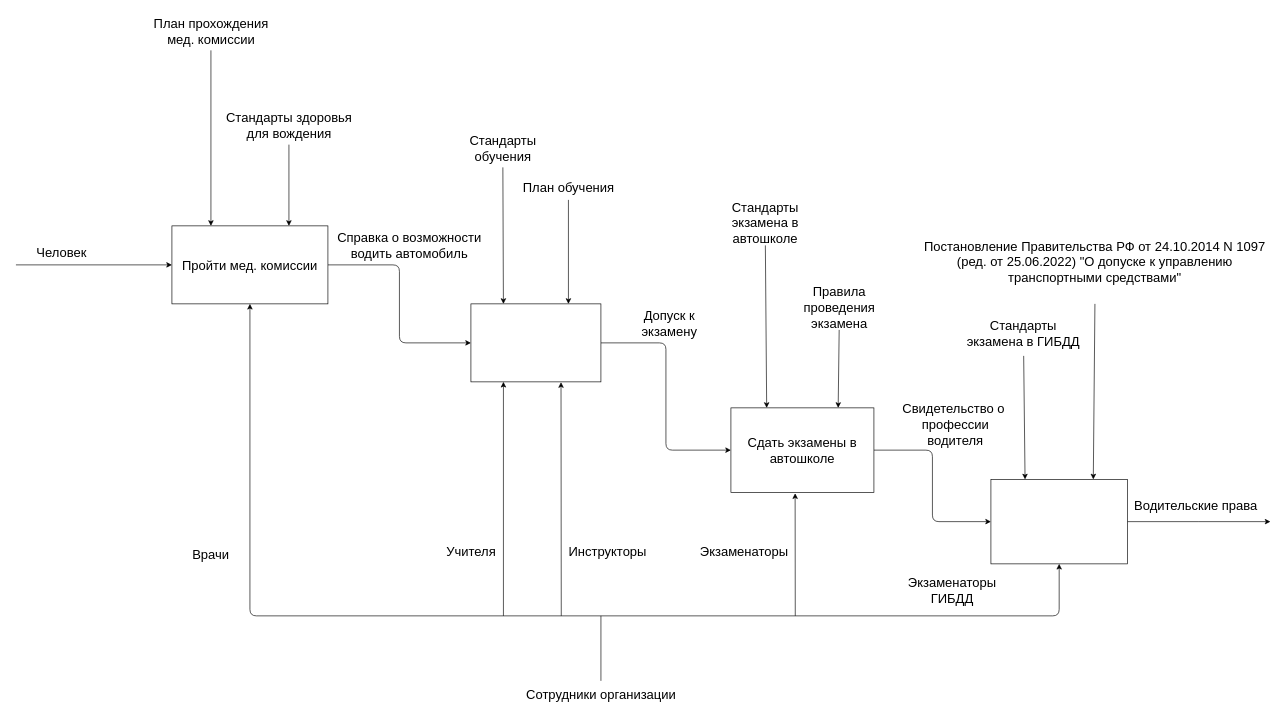
Image size: 1288x718. Some labels were removed from this diagram. The box of each missing label's shape, as (x1, y1, x2, y2) in pixels:
Пройти обучение в автошколе: (470, 303, 601, 382)
Сдать экзамена в ГИБДД: (990, 479, 1127, 564)
